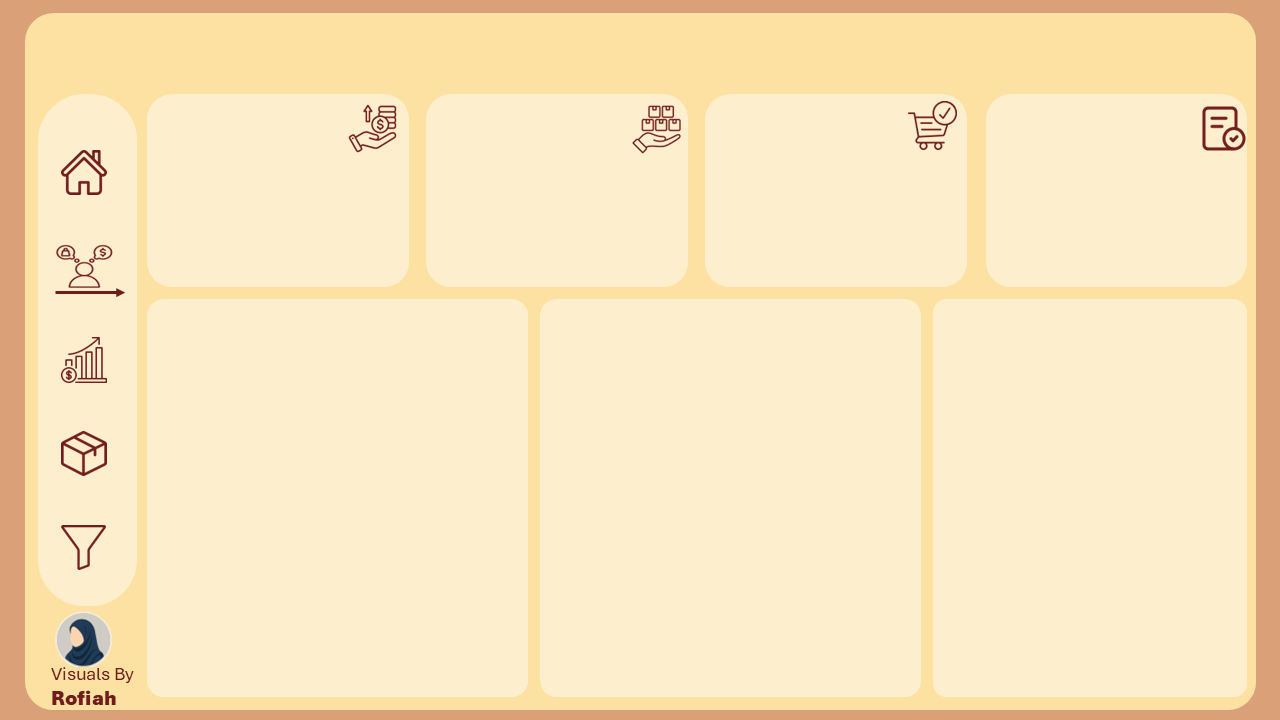

What the dashboard file says about the page in this screenshot:
{"tool":"powerbi","page":{"name":"Home Page","canvas":[1280,720],"ordinal":0},"visuals":[{"type":"shape","box":[0,92.8,1280.5,627.8],"z":0},{"type":"shape","box":[29.8,450.6,54.7,58],"z":1000},{"type":"textbox","box":[16.6,122.6,543.3,293.2],"z":2000},{"type":"shape","box":[0,0,1280.5,106],"z":3000},{"type":"textbox","box":[222,33.1,877.9,39.8],"z":4000},{"type":"actionButton","box":[56.9,459.2,463.2,40.6],"z":5000},{"type":"actionButton","box":[97.5,528.3,542.5,58.9],"z":6000},{"type":"actionButton","box":[199.1,603.4,365.7,56.9],"z":7000},{"type":"shape","box":[89.4,528.4,54.7,58],"z":8000},{"type":"shape","box":[144.1,603,54.7,58],"z":9000},{"type":"image","box":[638.9,94.8,222,144.1],"z":10000,"group":"g1"},{"type":"image","box":[631.1,256.8,626.1,439],"z":10000},{"type":"image","box":[811.1,94.8,189.1,144.1],"z":11000,"group":"g1"},{"type":"shape","box":[631.1,258.4,626.1,437.3],"z":11000},{"type":"group","id":"g1","title":"Group 1","box":[638.9,83.2,639.7,155.7],"z":12000},{"type":"image","box":[950.4,94.8,189.1,144.1],"z":12000,"group":"g1"},{"type":"image","box":[1089.7,83.2,188.8,155.7],"z":13000,"group":"g1"},{"type":"textbox","box":[798.4,366.1,299.8,294.9],"z":13000},{"type":"textbox","box":[798.4,366.1,306.4,49.7],"z":14000}]}

Visuals, with their boxes in screenshot pixels (x1, y1, x2, y2), scaled from the page's 1280x720 canvas onto the 1280x720 screenshot:
shape: region(0, 93, 1279, 719)
shape: region(30, 451, 84, 509)
textbox: region(17, 123, 560, 416)
shape: region(0, 0, 1279, 106)
textbox: region(222, 33, 1100, 73)
actionButton: region(57, 459, 520, 500)
actionButton: region(98, 528, 640, 587)
actionButton: region(199, 603, 565, 660)
shape: region(89, 528, 144, 586)
shape: region(144, 603, 199, 661)
image: region(639, 95, 861, 239)
image: region(631, 257, 1257, 696)
image: region(811, 95, 1000, 239)
shape: region(631, 258, 1257, 696)
"Group 1" group: region(639, 83, 1279, 239)
image: region(950, 95, 1140, 239)
image: region(1090, 83, 1278, 239)
textbox: region(798, 366, 1098, 661)
textbox: region(798, 366, 1105, 416)
